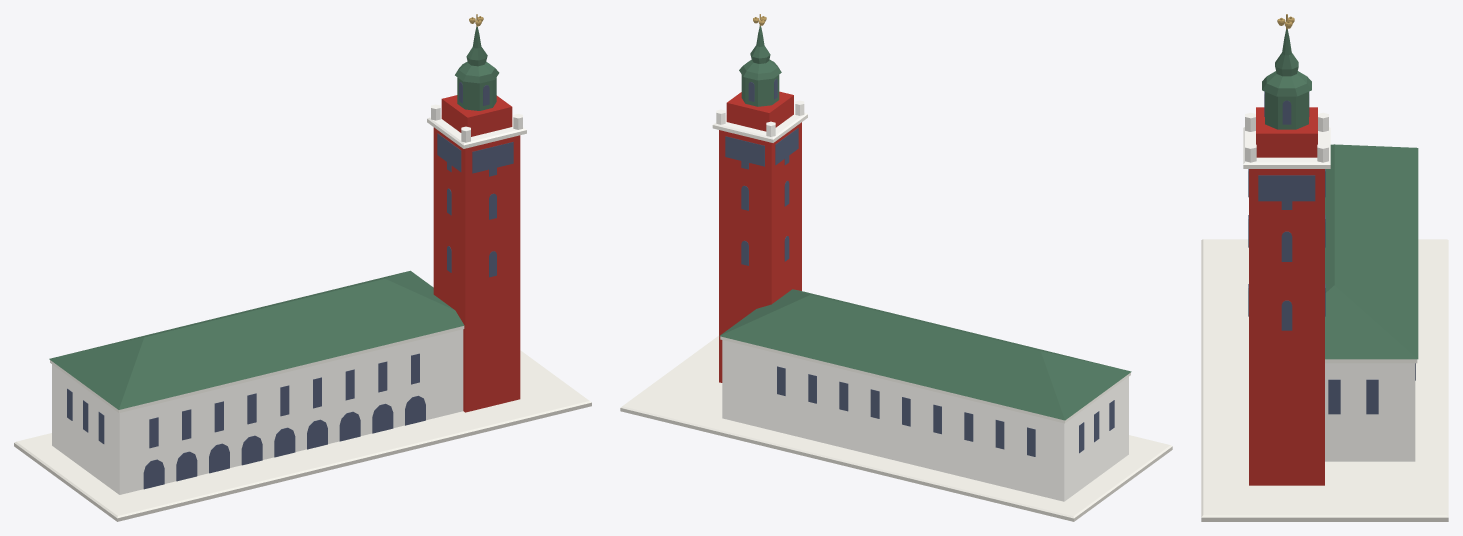
The model's file is stockholm.glb.
3 renders of one model, left to right at view 1: azimuth 30°, elevation 25°; view 2: azimuth 150°, elevation 25°; view 3: azimuth 270°, elevation 25°, orthographic. The views are drawn at different scales.
Visible parts, largest first — view 1: model; view 2: model; view 3: model.
Part boxes in pixels (box(x1,y1,x2,y2)): model: box(14, 14, 591, 521); model: box(620, 14, 1172, 521); model: box(1201, 14, 1448, 521).
Bounding box in the file's own units: 138 × 107 × 52.
